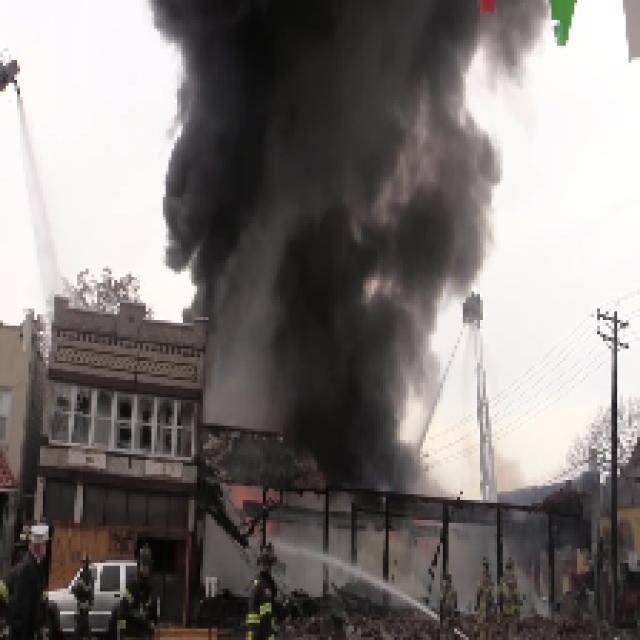Smoke: (168, 2, 478, 312), (220, 321, 446, 488), (486, 2, 554, 88)
